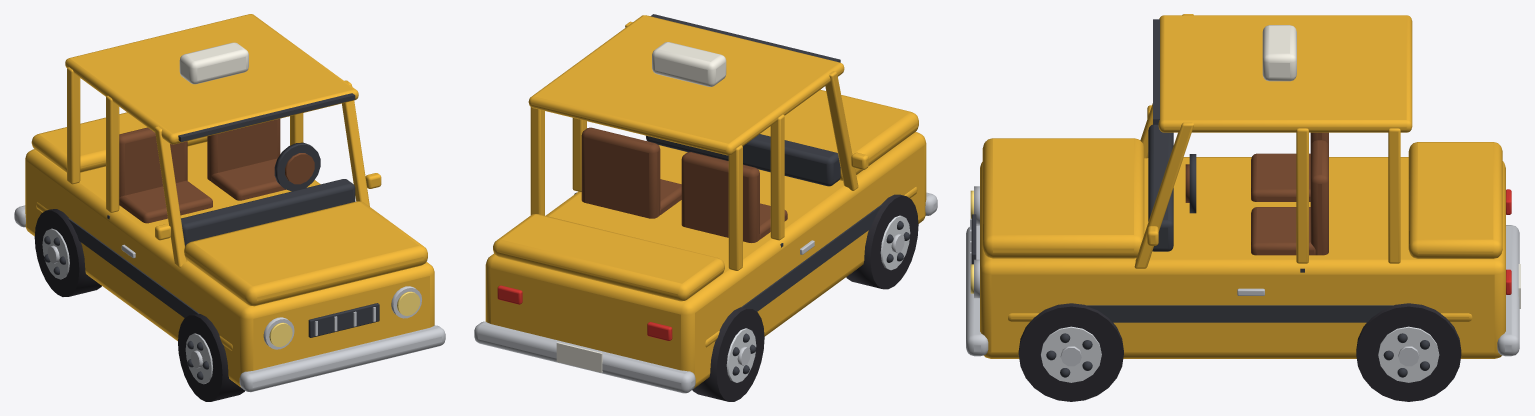
File: taxi.glb
3 renders of one model, left to right at view 1: azimuth 30°, elevation 25°; view 2: azimuth 150°, elevation 25°; view 3: azimuth 270°, elevation 25°, orthographic. The views are drawn at different scales.
Parts seen in each view (by area): view 1: body, wheelFR, wheelBR; view 2: body, wheelBR, wheelFR; view 3: body, wheelBL, wheelFL.
Boxes of the visible parts, x1,y1,x2,y2 form: body: (14, 14, 445, 392); wheelFR: (178, 314, 244, 401); wheelBR: (34, 209, 101, 296); body: (474, 14, 937, 393); wheelBR: (692, 307, 764, 401); wheelFR: (846, 194, 918, 289); body: (966, 14, 1520, 358); wheelBL: (1356, 303, 1461, 401); wheelFL: (1018, 303, 1123, 401).
Bounding box in the file's own units: 2.66 × 2.93 × 4.85.
